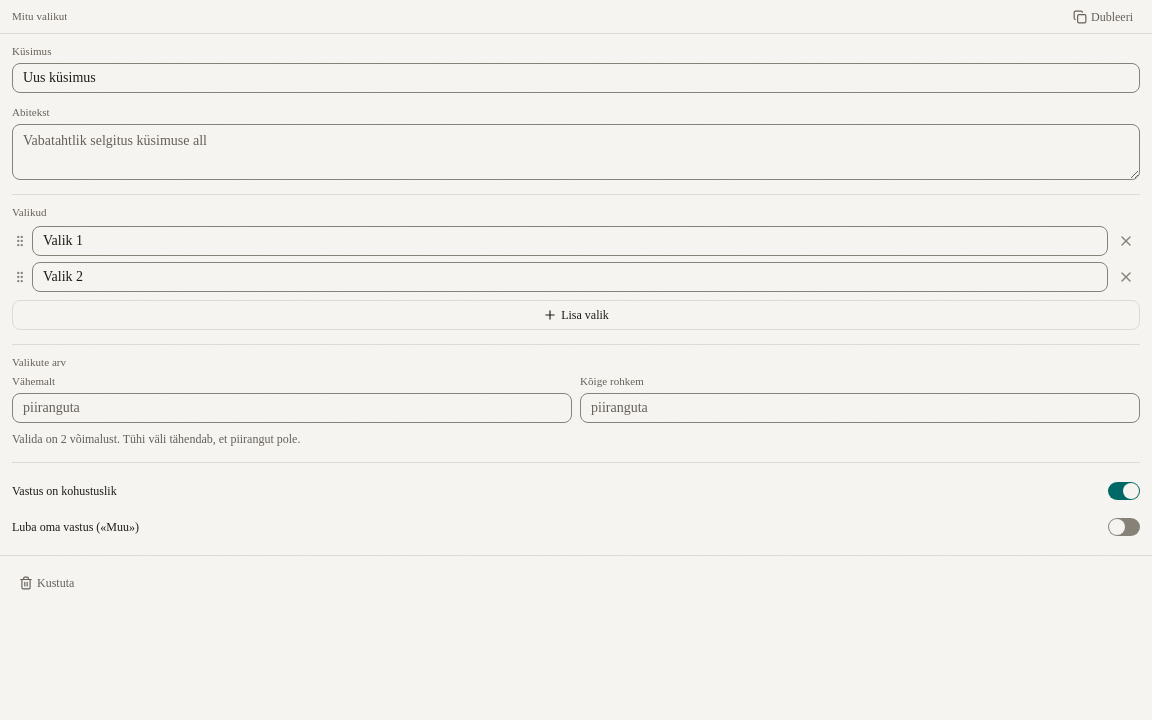
it: removing a choice › removes the choice once the warning is accepted
Click the button "Lisa valik" at (576, 315), box [12,300,1140,330]
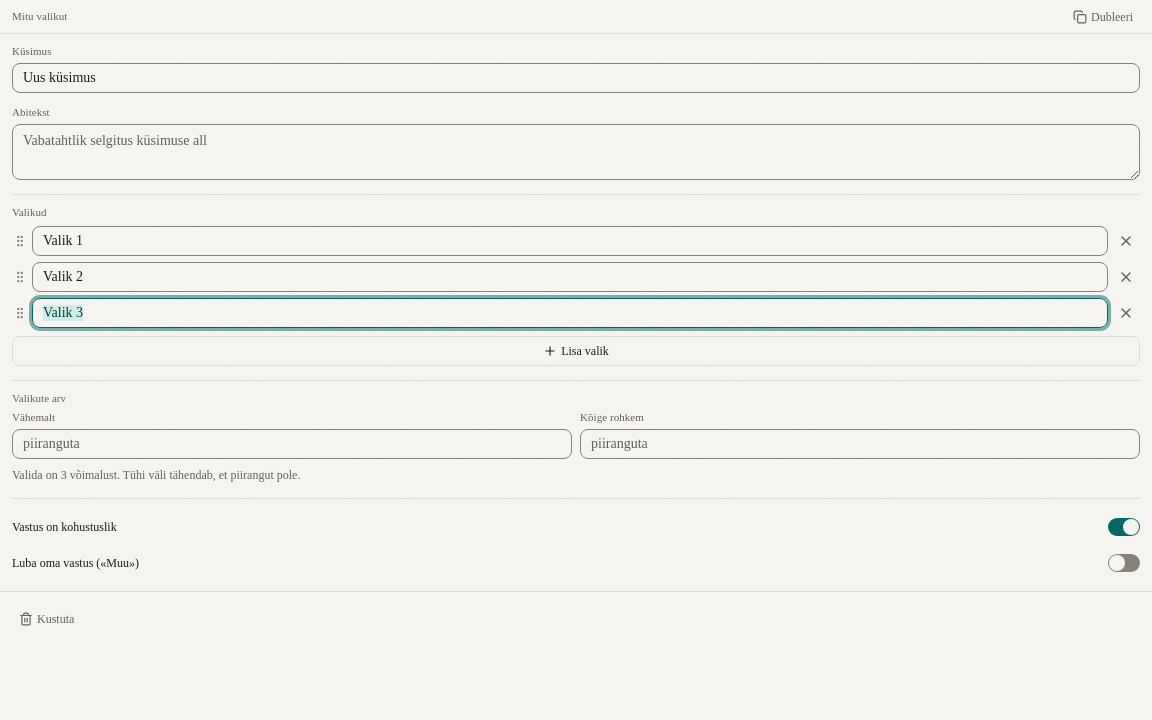
Click the button named "Eemalda valik 1" at (1126, 241), box [1112,227,1140,255]
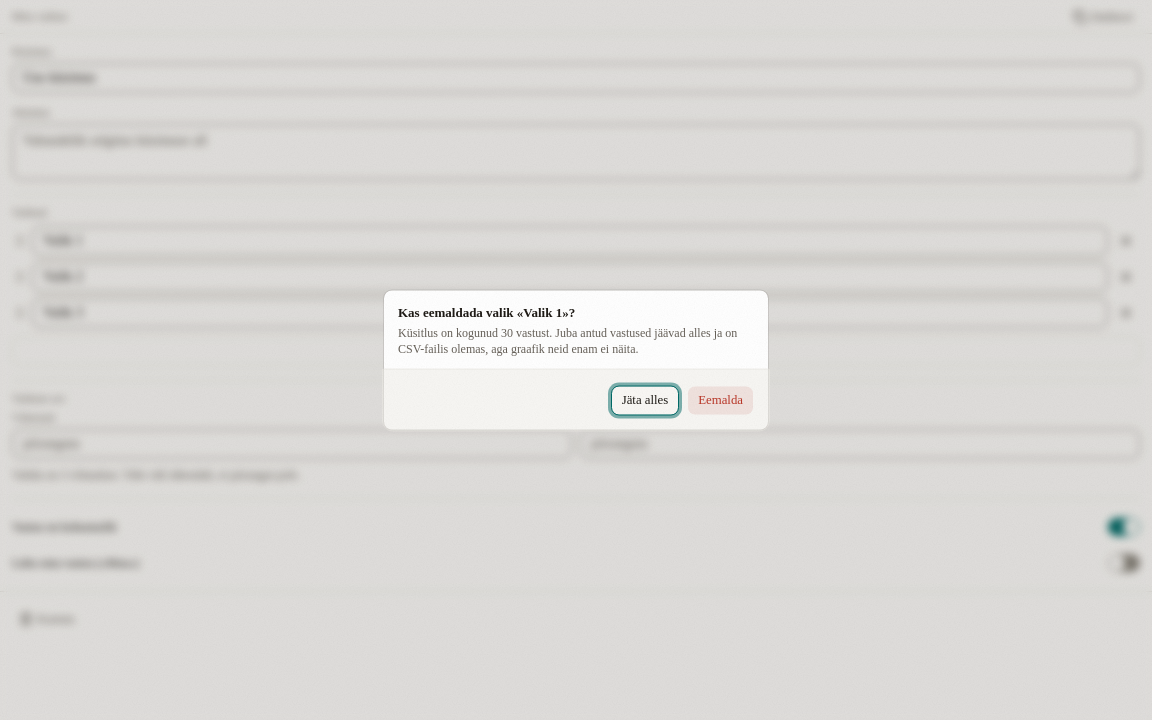
Click the button "Eemalda" at (721, 400), box [687,386,754,416]
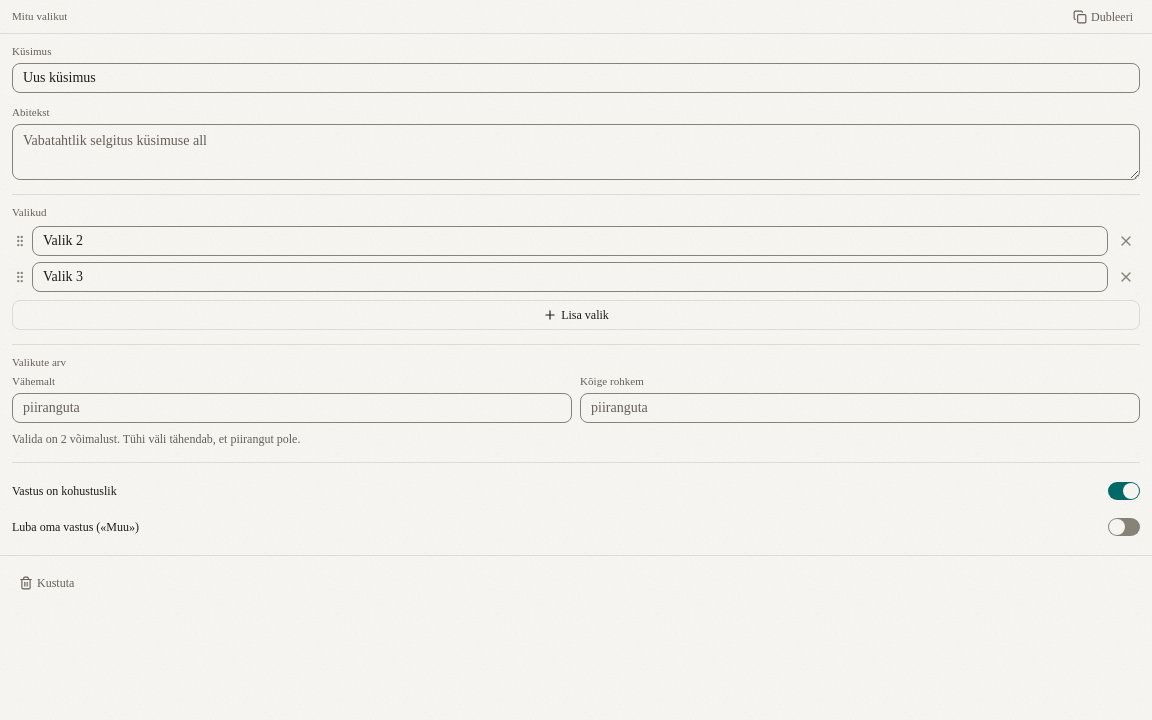
Check: the heading showing "Valik 1" is gone
